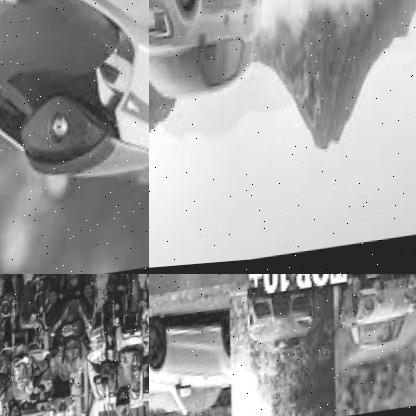bike: (26, 274, 103, 380), (96, 274, 148, 372), (0, 276, 37, 395)
car: (149, 0, 275, 113), (149, 305, 238, 416), (338, 274, 416, 361), (239, 285, 322, 363)
